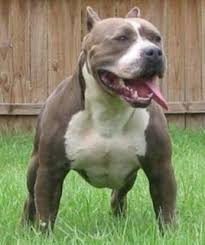Perro Pitbull: (32, 4, 190, 242)
